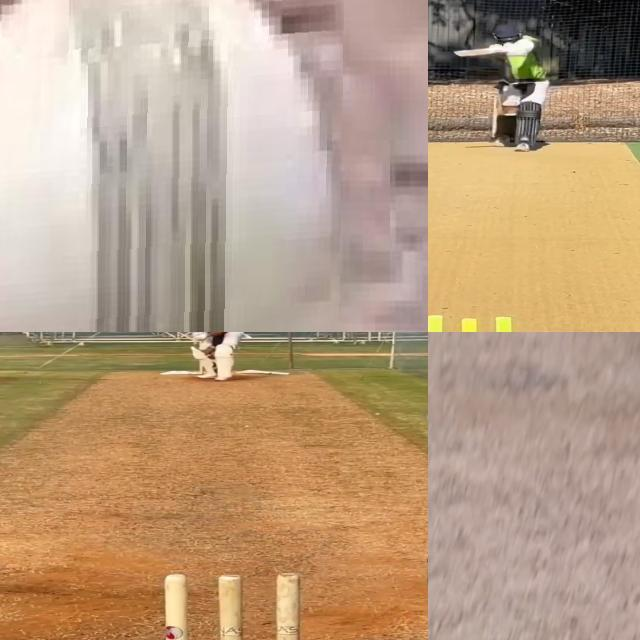Cricket ball: (0, 0, 345, 332), (488, 44, 502, 52)
Stumps: (163, 569, 303, 640)
